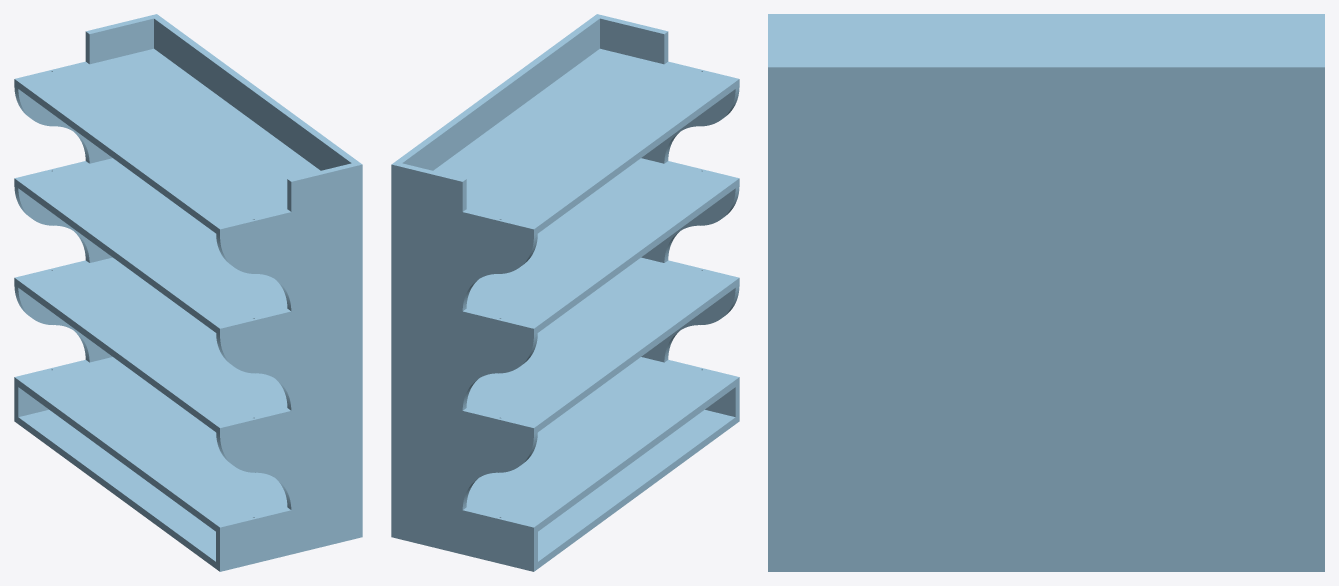
The model's file is wouldchuckit_CurvedSupportBookshelfMultipleVerticals.glb.
3 renders of one model, left to right at view 1: azimuth 30°, elevation 25°; view 2: azimuth 150°, elevation 25°; view 3: azimuth 270°, elevation 25°, orthographic. The views are drawn at different scales.
Visible parts, largest first — view 1: part-7, part-5, part-3, part-4, part-2, part-0, part-1, part-6; view 2: part-6, part-5, part-3, part-4, part-2, part-0, part-1, part-7; view 3: part-0, part-5, part-6, part-7, part-4, part-1, part-2, part-3.
Boxes of the visible parts, x1,y1,x2,y2 form: part-7: (216,163,362,564); part-5: (14,48,320,236); part-3: (14,257,291,435); part-4: (14,158,291,335); part-2: (14,357,291,534); part-0: (150,14,362,519); part-1: (14,410,291,571); part-6: (14,15,153,416); part-6: (391,163,537,564); part-5: (433,48,739,236); part-3: (462,257,739,435); part-4: (462,158,739,335); part-2: (462,357,739,534); part-0: (391,14,603,519); part-1: (462,410,739,571); part-7: (600,15,739,416); part-0: (768,62,1324,571); part-5: (768,14,1324,117); part-6: (1314,20,1324,571); part-7: (768,20,778,571); part-4: (826,242,1157,252); part-1: (826,562,1157,571); part-2: (826,512,1157,521); part-3: (826,377,1157,386).
Size of the model in its own units: 400 by 1000 by 1000.
